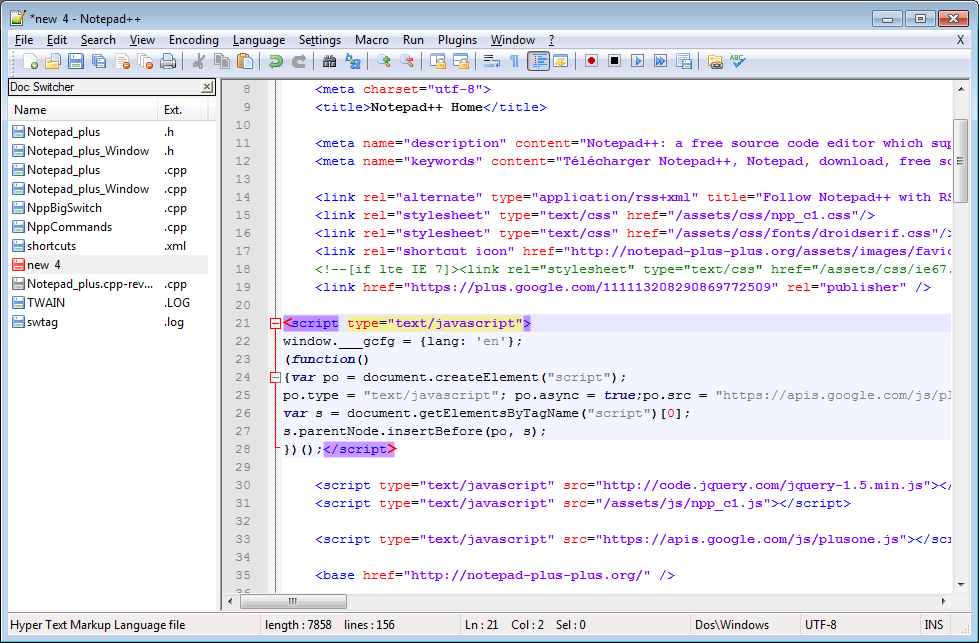text/javascript: (386, 315, 524, 331)
window.__gcfg: (279, 333, 400, 350)
